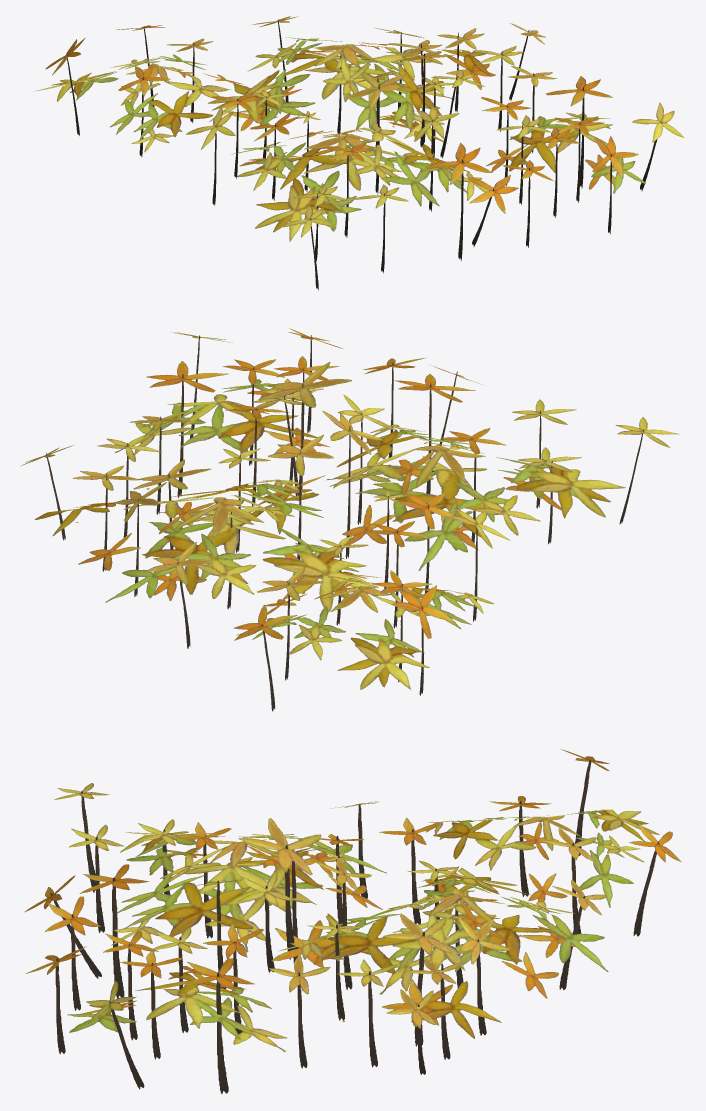
File: borean_groundcover_01.obj
3 views of the same model, one above another, from view 1: azimuth 30°, elevation 25°; view 2: azimuth 150°, elevation 25°; view 3: azimuth 270°, elevation 25° (orthographic). The views are drawn at different scales.
Visible parts, largest first — view 1: borean_groundcover_01; view 2: borean_groundcover_01; view 3: borean_groundcover_01.
Part boxes in pixels (x1,y1,x2,y2): borean_groundcover_01: (35,16,683,290); borean_groundcover_01: (20,328,679,711); borean_groundcover_01: (24,749,681,1093).
Size of the model in its own units: 2.29 by 0.7044 by 2.36.
Materials: 1 (1 with a texture image).
